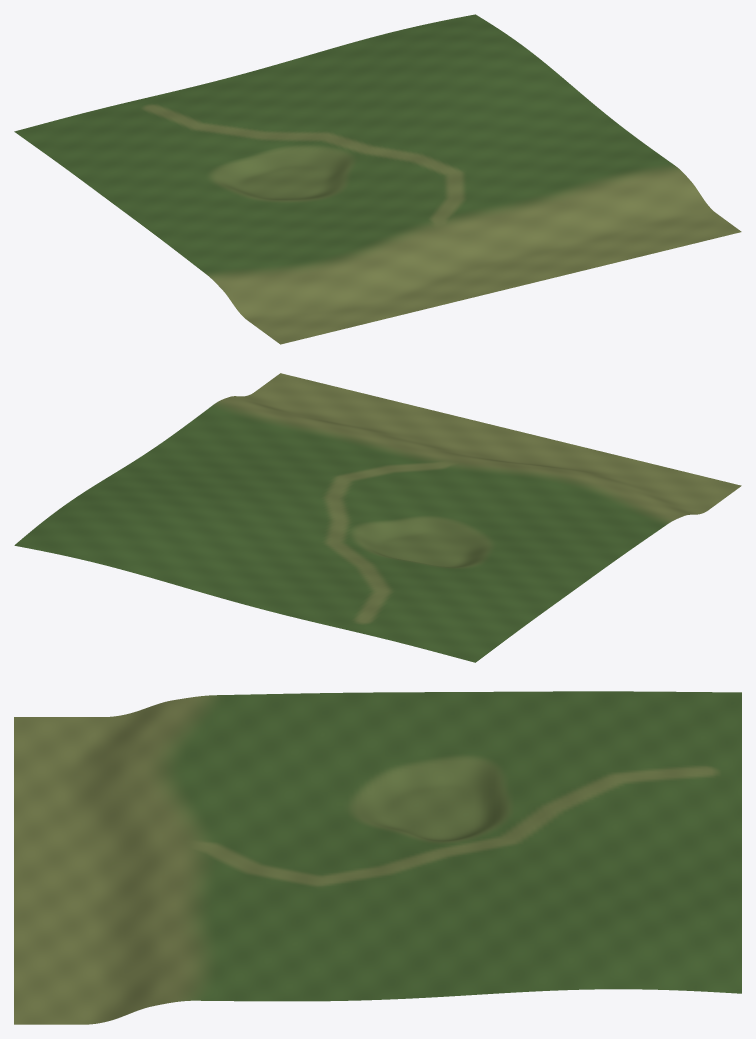
Rendered from SM_Ground.fbx.
3 renders of one model, top to bottom at view 1: azimuth 30°, elevation 25°; view 2: azimuth 150°, elevation 25°; view 3: azimuth 270°, elevation 25°, orthographic. The views are drawn at different scales.
Visible parts, largest first — view 1: SM_Ground; view 2: SM_Ground; view 3: SM_Ground.
Boxes of the visible parts, x1,y1,x2,y2 form: SM_Ground: (14, 14, 741, 344); SM_Ground: (14, 373, 741, 662); SM_Ground: (14, 691, 741, 1024).
Size of the model in its own units: 10000 by 10000 by 608.
